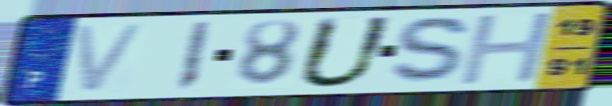8: (232, 18, 304, 91)
H: (455, 10, 558, 88)
I: (171, 19, 215, 93)
S: (386, 14, 478, 87)
U: (292, 15, 399, 91)
V: (71, 21, 152, 96)
